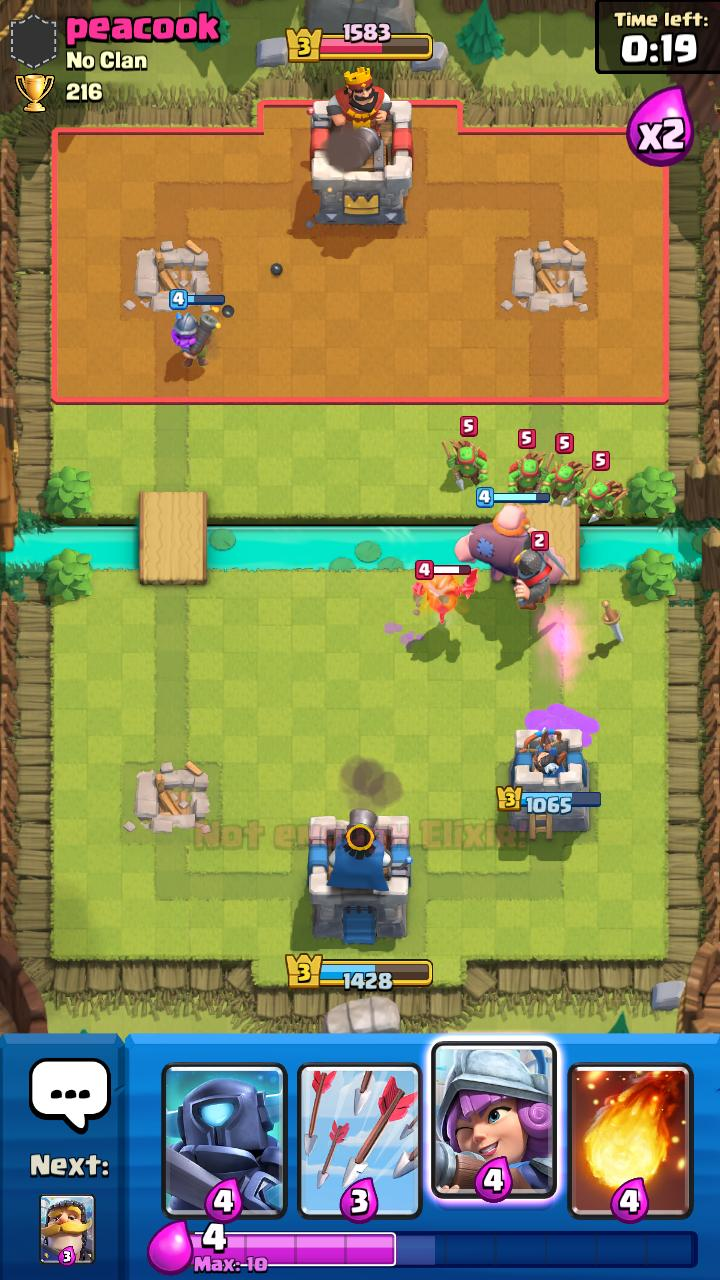ally: (454, 486, 566, 584), (169, 289, 225, 368)
enemy: (513, 531, 572, 610), (411, 560, 479, 624), (541, 433, 594, 508), (577, 451, 628, 523), (441, 416, 489, 491), (507, 429, 555, 493)
